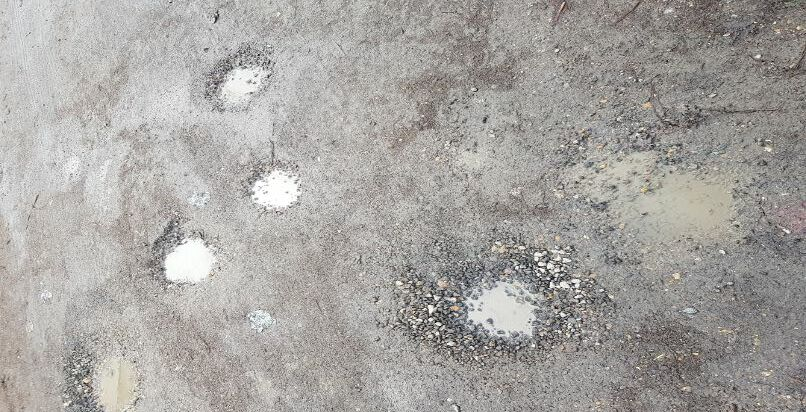pothole: (387, 232, 605, 362), (63, 320, 152, 412), (145, 223, 225, 289), (204, 40, 276, 111), (243, 156, 305, 214)
